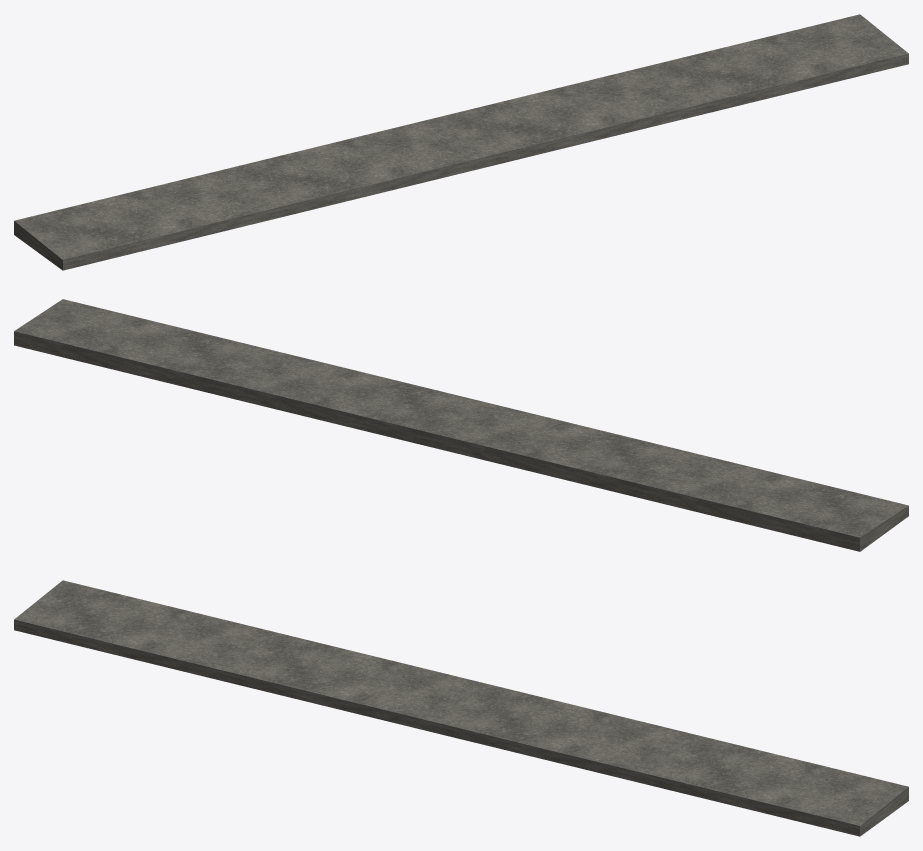
File: PROJECT_Z_Road_Gravel_Shoulder_Left_10m.glb
3 views of the same model, one above another, from view 1: azimuth 30°, elevation 25°; view 2: azimuth 150°, elevation 25°; view 3: azimuth 330°, elevation 25° (orthographic).
Visible parts, largest first — view 1: SM_PZ_Shoulder_Left_1m; view 2: SM_PZ_Shoulder_Left_1m; view 3: SM_PZ_Shoulder_Left_1m.
Part boxes in pixels (left/top/right/bottom): SM_PZ_Shoulder_Left_1m: left=14, top=14, right=908, bottom=270; SM_PZ_Shoulder_Left_1m: left=14, top=299, right=908, bottom=551; SM_PZ_Shoulder_Left_1m: left=14, top=580, right=908, bottom=836.
Size of the model in its own units: 10 by 0.16 by 1.
1 material, 1 textured.
